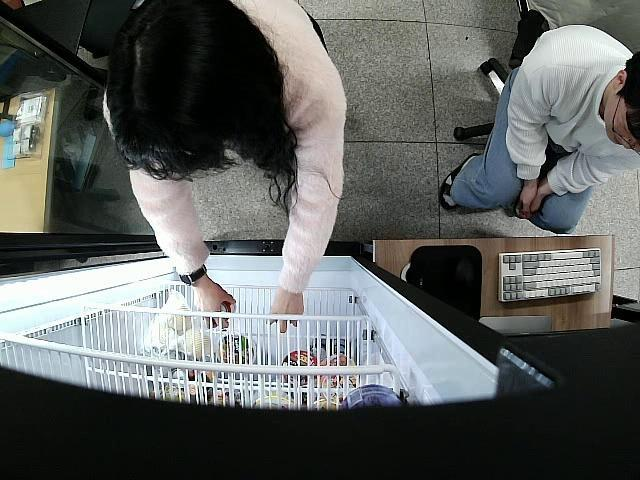11_cocaColaZero: (222, 296, 236, 316)
